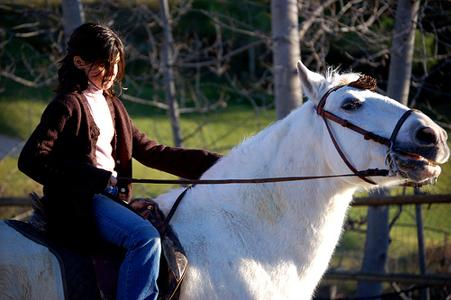person: (16, 24, 231, 300)
